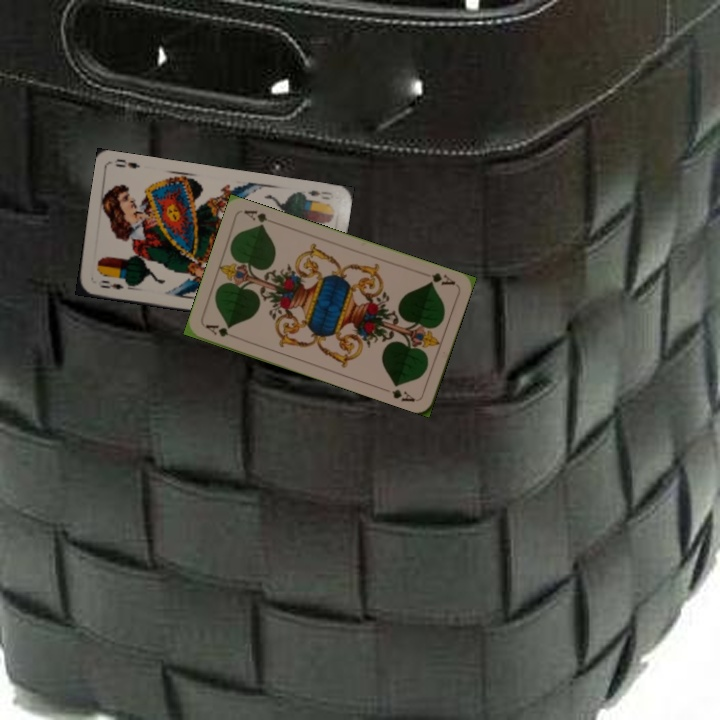EO: (304, 186, 336, 202), (96, 276, 126, 292)
GA: (424, 268, 458, 288), (202, 320, 232, 340)
